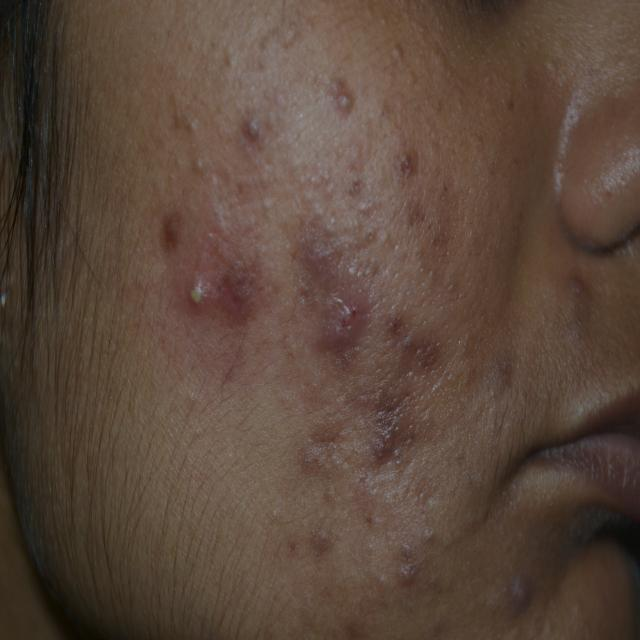acne: (140, 100, 438, 470)
oily: (85, 72, 631, 630)
